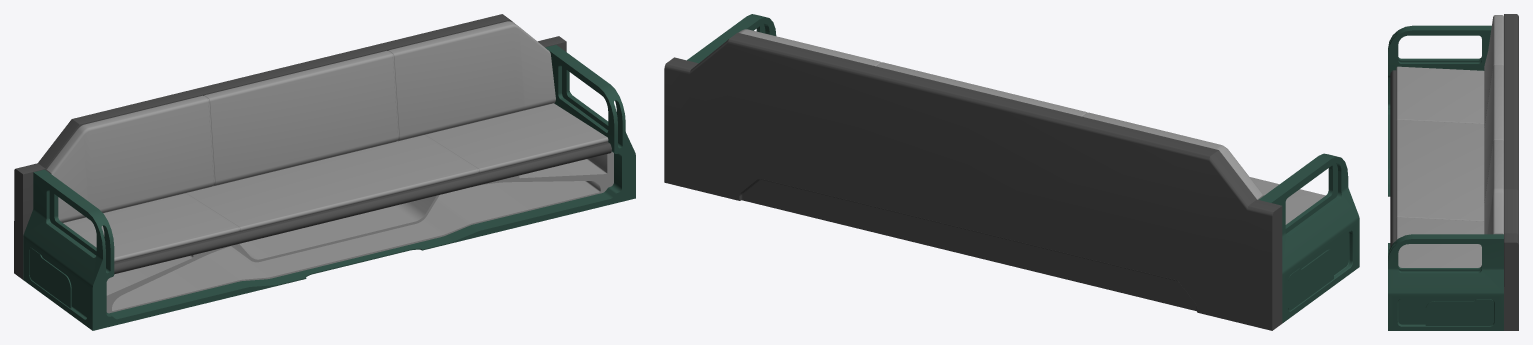
Rendered from couch1.fbx.
3 renders of one model, left to right at view 1: azimuth 30°, elevation 25°; view 2: azimuth 150°, elevation 25°; view 3: azimuth 270°, elevation 25°, orthographic. The views are drawn at different scales.
Visible parts, largest first — view 1: Demo.002; view 2: Demo.002; view 3: Demo.002.
Part boxes in pixels (x1,y1,x2,y2): Demo.002: (14,14,635,330); Demo.002: (664,14,1359,330); Demo.002: (1388,14,1518,330).
Size of the model in its own units: 406 by 102 by 101.
